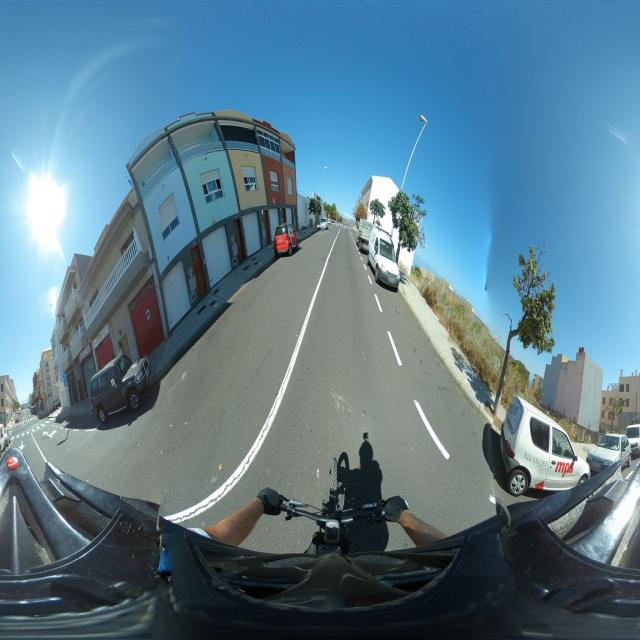car: (499, 393, 579, 496), (368, 234, 401, 291), (587, 433, 631, 475), (273, 222, 299, 257), (625, 422, 640, 460), (357, 221, 374, 252), (357, 230, 374, 252)
